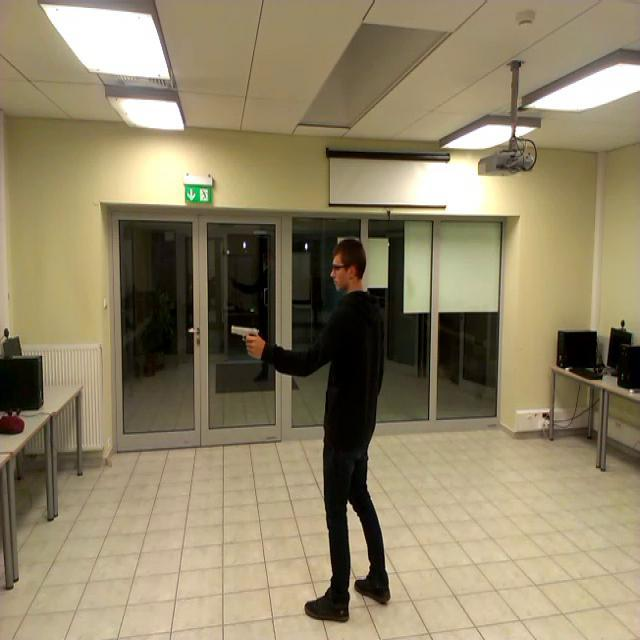Gun: (232, 324, 260, 352)
